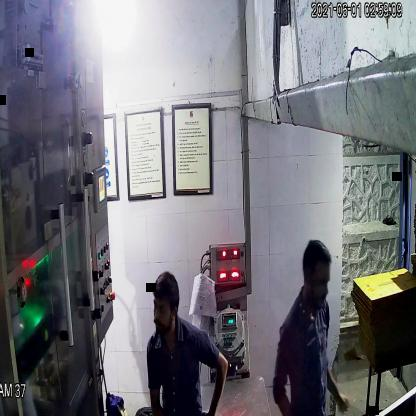no_goggles: (150, 295, 178, 321)
